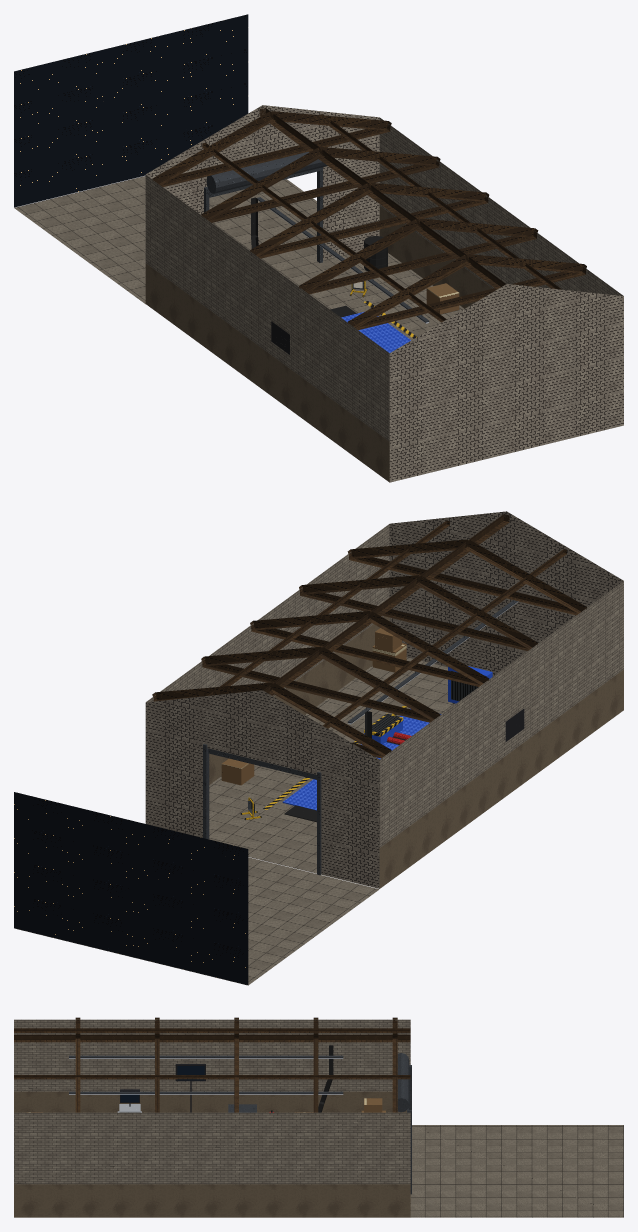
File: dyno.glb
3 views of the same model, one above another, from view 1: azimuth 30°, elevation 25°; view 2: azimuth 150°, elevation 25°; view 3: azimuth 270°, elevation 25° (orthographic). The views are drawn at different scales.
Parts seen in each view (by area): view 1: brick, EMIT_night, beam, floor, plaster_low, steel, rubber, dynoplate; view 2: brick, EMIT_night, beam, floor, plaster_low, steel, cardboard, dynoplate, grate; view 3: brick, plaster_low, floor, beam, steel, EMIT_led, cardboard, blacksteel, rubber, EMIT_dynoB.
Part boxes in pixels (bbox=[...]): brick: bbox=[145, 105, 623, 482]; EMIT_night: bbox=[14, 14, 248, 207]; beam: bbox=[152, 108, 586, 330]; floor: bbox=[14, 176, 464, 340]; plaster_low: bbox=[145, 206, 492, 482]; steel: bbox=[204, 151, 429, 322]; rubber: bbox=[251, 197, 387, 317]; dynoplate: bbox=[341, 311, 410, 352]; brick: bbox=[145, 511, 623, 888]; EMIT_night: bbox=[14, 792, 248, 984]; beam: bbox=[152, 514, 586, 758]; floor: bbox=[14, 657, 455, 985]; plaster_low: bbox=[209, 616, 623, 888]; steel: bbox=[203, 600, 517, 875]; cardboard: bbox=[221, 628, 406, 785]; dynoplate: bbox=[282, 708, 441, 810]; grate: bbox=[372, 671, 478, 732]; brick: bbox=[14, 1019, 410, 1184]; plaster_low: bbox=[14, 1091, 410, 1217]; floor: bbox=[410, 1125, 623, 1217]; beam: bbox=[14, 1017, 410, 1112]; steel: bbox=[69, 1053, 411, 1194]; EMIT_led: bbox=[69, 1058, 343, 1094]; cardboard: bbox=[26, 1098, 385, 1112]; blacksteel: bbox=[120, 1064, 272, 1112]; rubber: bbox=[318, 1045, 333, 1112]; EMIT_dynoB: bbox=[177, 1066, 204, 1080].
Bounding box in the file's own units: 7.27 × 5.04 × 20.
22 materials, 22 textured.
